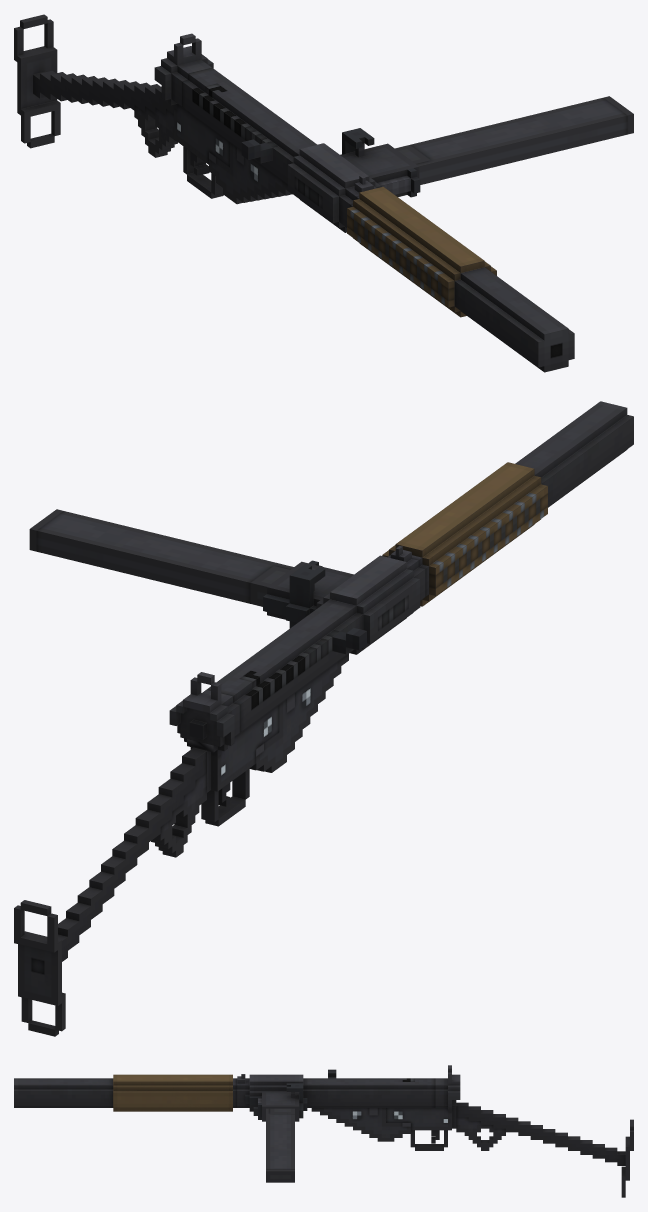
Rendered from RD_STEN_MK2.glb.
3 views of the same model, one above another, from view 1: azimuth 30°, elevation 25°; view 2: azimuth 150°, elevation 25°; view 3: azimuth 270°, elevation 25° (orthographic). The views are drawn at different scales.
Visible parts, largest first — view 1: STEN_MK2, STEN_MK2_SILENCER, STEN_MK2_CLIP, STEN_MK2_BOLT; view 2: STEN_MK2, STEN_MK2_SILENCER, STEN_MK2_CLIP; view 3: STEN_MK2, STEN_MK2_SILENCER, STEN_MK2_CLIP.
Part boxes in pixels (x1,y1,x2,y2): STEN_MK2: (14,14,420,232); STEN_MK2_SILENCER: (347,186,574,372); STEN_MK2_CLIP: (395,96,633,184); STEN_MK2_BOLT: (241,139,272,163); STEN_MK2: (14,545,428,1036); STEN_MK2_SILENCER: (382,401,633,606); STEN_MK2_CLIP: (29,509,293,606); STEN_MK2: (233,1065,633,1197); STEN_MK2_SILENCER: (14,1074,232,1111); STEN_MK2_CLIP: (266,1108,294,1182).
Size of the model in its own units: 0.5413 by 0.3346 by 1.48.
Materials: 1 (1 with a texture image).
